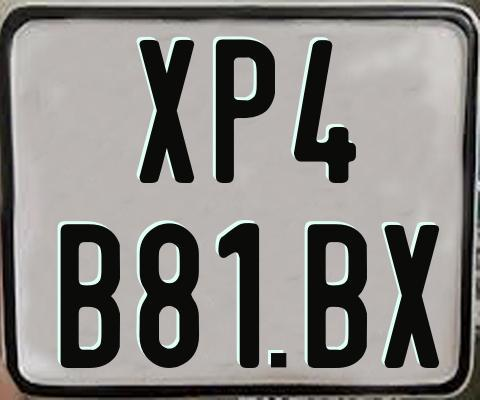1: (215, 220, 258, 371)
4: (292, 39, 359, 185)
8: (136, 221, 201, 367)
B: (59, 221, 123, 367), (307, 222, 367, 366)
P: (214, 37, 274, 184)
X: (138, 38, 198, 185), (383, 223, 439, 367)
